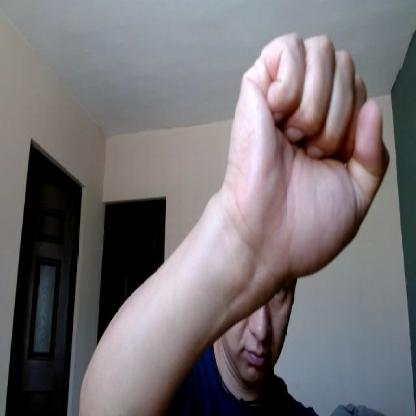S: (227, 32, 392, 279)
